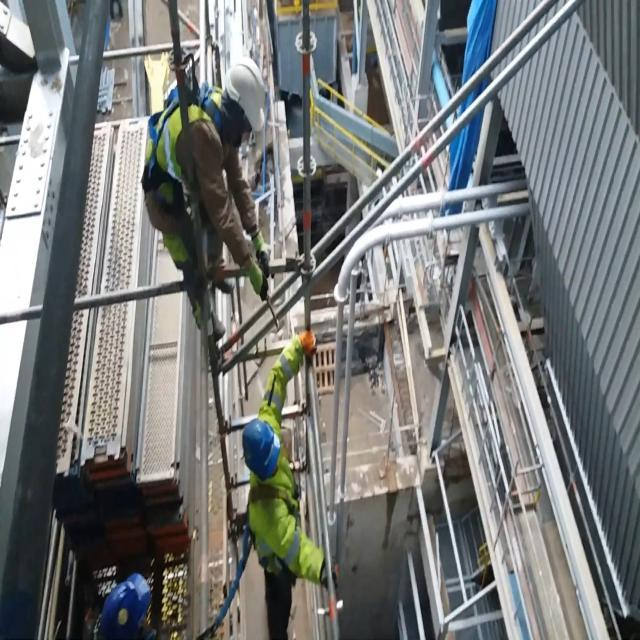belt: (140, 61, 236, 256), (240, 446, 304, 572)
